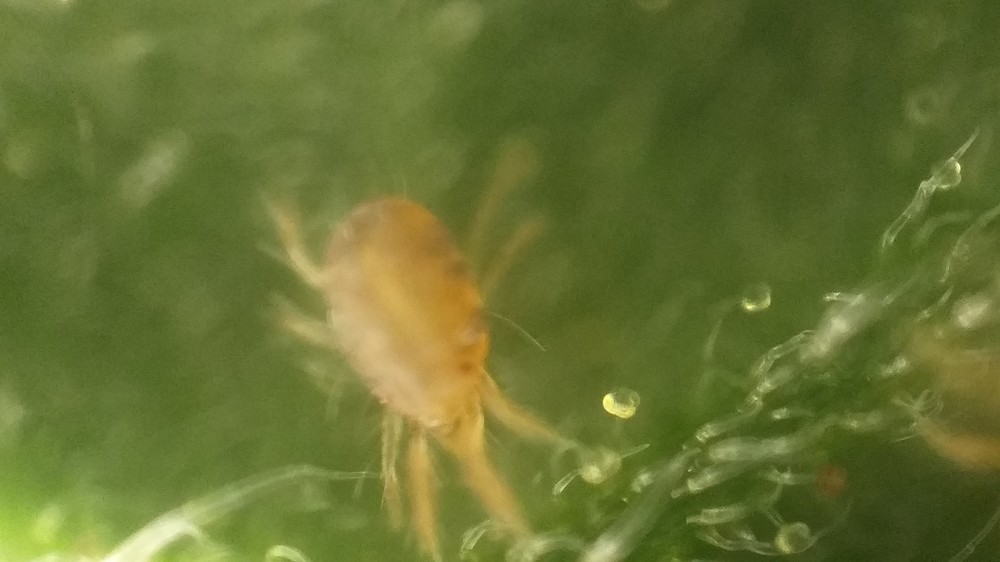Aracnido Rojo: (231, 159, 600, 562)
